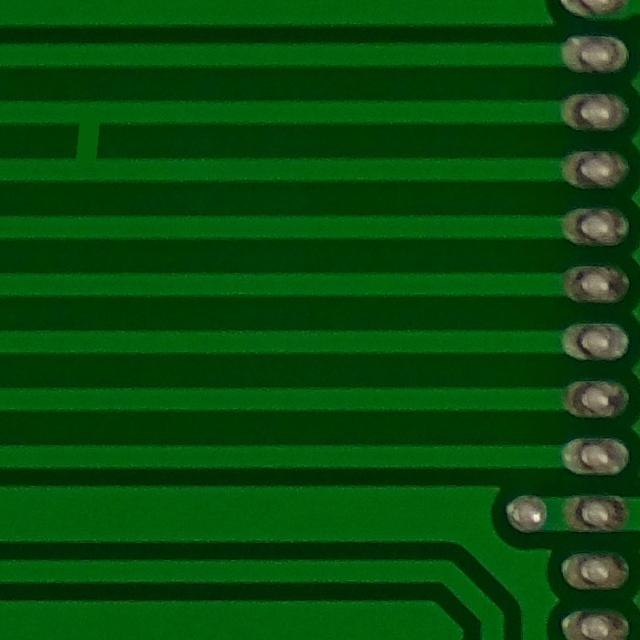short: (45, 94, 132, 188)
